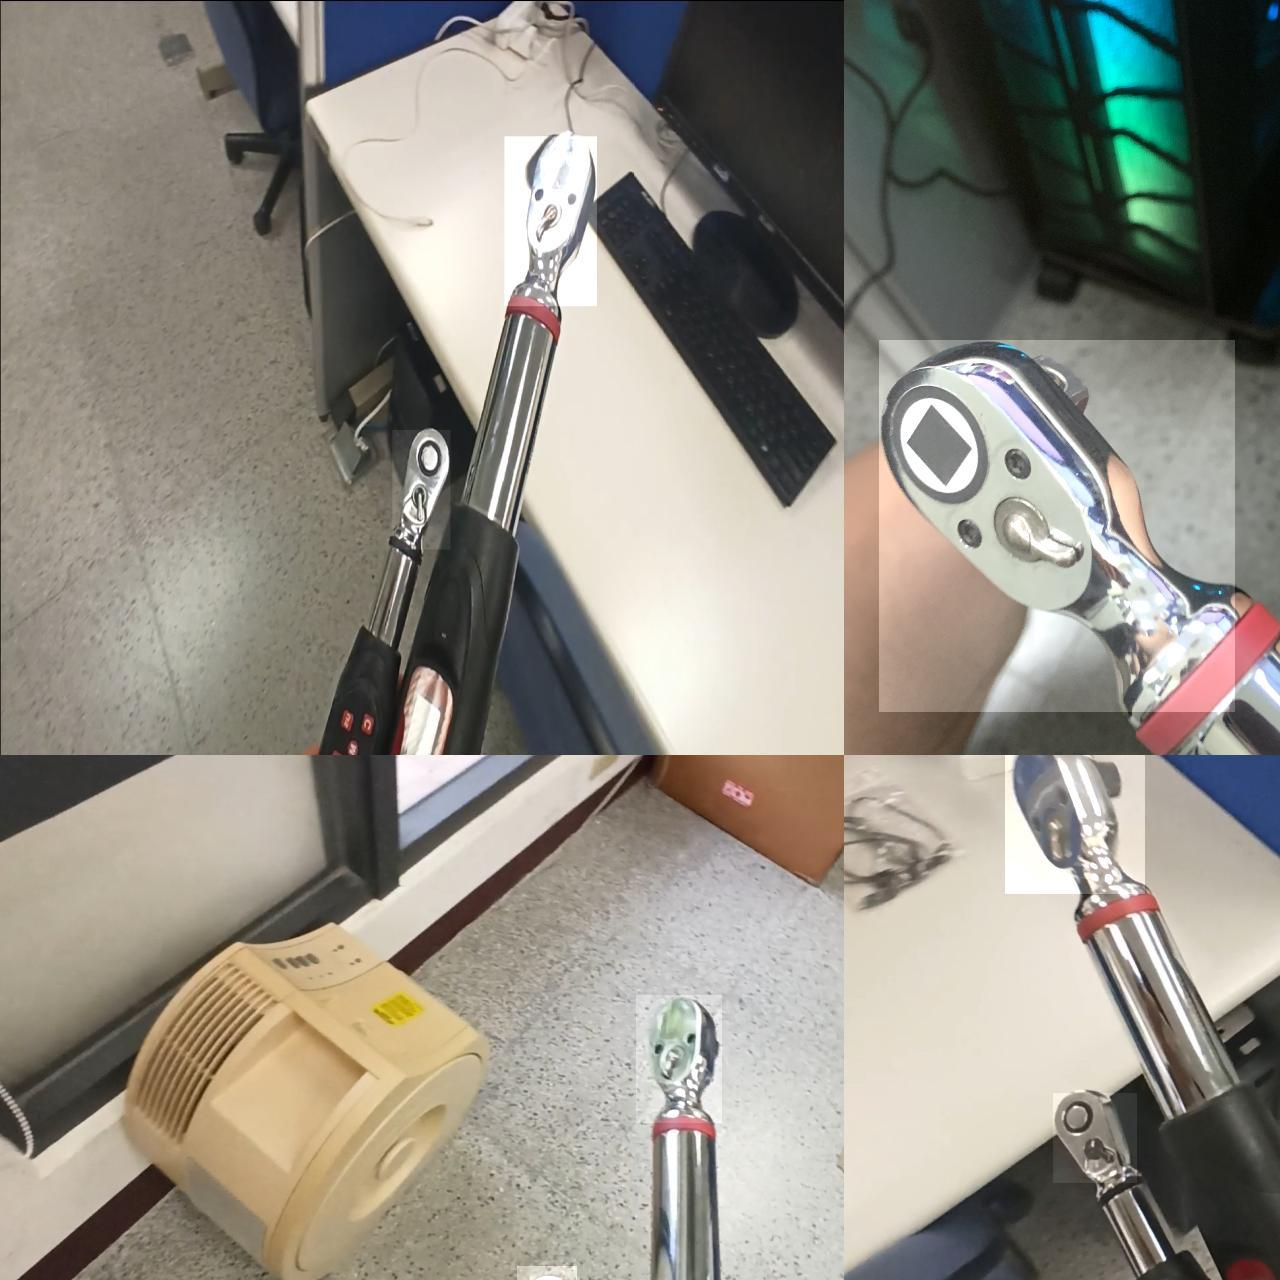Tool: (878, 339, 1234, 712), (1005, 755, 1144, 893), (504, 135, 597, 305), (635, 994, 721, 1122), (1051, 1092, 1136, 1182), (392, 429, 449, 549)
